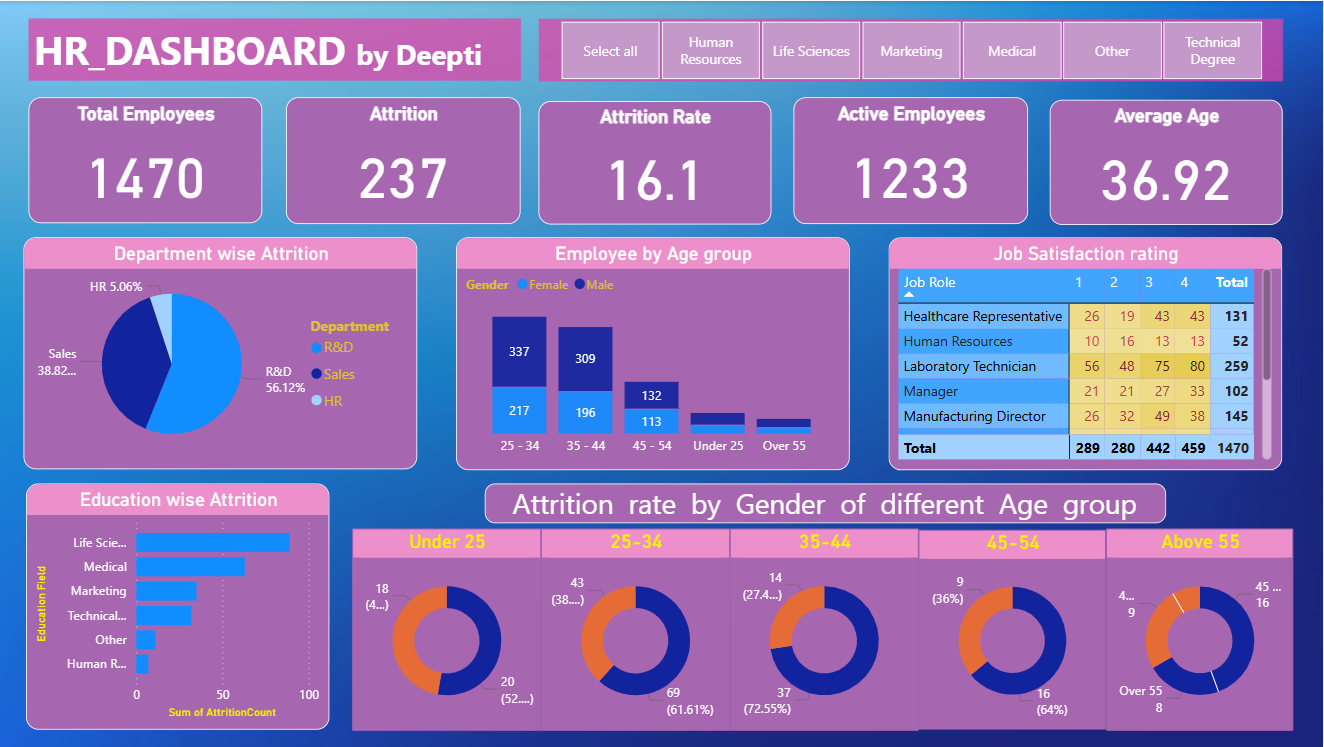

The page's visual inventory and layout, read from the dashboard file:
{"tool":"powerbi","page":{"name":"Page 1","canvas":[1280,720],"ordinal":0},"visuals":[{"type":"card","title":"Total Employees","fields":{"Values":["Sum(HR data.Employee Count)"]},"box":[31.4,92.9,225.6,121.9],"z":0},{"type":"card","title":"Attrition","fields":{"Values":["Sum(HR data.AttritionCount)"]},"box":[280.2,92.4,226.1,122.3],"z":1000},{"type":"card","title":"Attrition Rate","fields":{"Values":["HR data.AttritionRate"]},"box":[523.4,96.7,224.7,119.5],"z":2000},{"type":"card","title":"Active Employees","fields":{"Values":["Sum(HR data.ActiveEmployees)"]},"box":[769.4,92.4,226.1,122.3],"z":3000},{"type":"card","title":"Average Age","fields":{"Values":["Avg(HR data.Age)"]},"box":[1016.9,95.3,224.7,120.9],"z":4000},{"type":"pieChart","title":"Department wise Attrition","fields":{"Y":["Sum(HR data.AttritionCount)"],"Category":["HR data.Department"]},"box":[26.5,228,380,224.4],"z":5000},{"type":"columnChart","title":"Employee by Age group","fields":{"Category":["HR data.CF_age band"],"Y":["Sum(HR data.Employee Count)"],"Series":["HR data.Gender"]},"box":[443.7,227.6,379.7,224.7],"z":6000},{"type":"pivotTable","title":"Job Satisfaction rating","fields":{"Rows":["HR data.Job Role"],"Values":["CountNonNull(HR data.Hourly Rate)"],"Columns":["HR data.Job Satisfaction"]},"box":[861.9,227.6,379.7,224.7],"z":7000},{"type":"barChart","title":"Education wise Attrition","fields":{"Y":["Sum(HR data.AttritionCount)"],"Category":["HR data.Education Field"]},"box":[29,465.7,293.2,237.7],"z":8000},{"type":"donutChart","title":"Under 25","fields":{"Y":["Sum(HR data.AttritionCount)"],"Category":["HR data.Gender"],"Series":["HR data.CF_age band"]},"box":[343.8,509.1,182.2,195.4],"z":9000},{"type":"donutChart","title":"25-34","fields":{"Y":["Sum(HR data.AttritionCount)"],"Category":["HR data.Gender"],"Series":["HR data.CF_age band"]},"box":[526,509.1,182.2,195.4],"z":10000},{"type":"donutChart","title":"35-44","fields":{"Y":["Sum(HR data.AttritionCount)"],"Category":["HR data.Gender"],"Series":["HR data.CF_age band"]},"box":[708.2,509.1,182.2,195.4],"z":11000},{"type":"donutChart","title":"45-54","fields":{"Y":["Sum(HR data.AttritionCount)"],"Category":["HR data.Gender"],"Series":["HR data.CF_age band"]},"box":[890.4,510.3,181,193],"z":12000},{"type":"donutChart","title":"Above 55","fields":{"Y":["Sum(HR data.AttritionCount)"],"Category":["HR data.Gender"],"Series":["HR data.CF_age band"]},"box":[1071.3,509.1,181,195.4],"z":13000},{"type":"textbox","box":[471.7,465.7,657.5,38.6],"z":14000},{"type":"textbox","box":[31.3,17.1,475,59.7],"z":15000},{"type":"slicer","fields":{"Values":["HR data.Education Field"]},"box":[523.4,17.1,718.2,61.2],"z":16000}]}

Visuals, with their boxes in screenshot pixels (x1, y1, x2, y2), scaled from the page's 1280x720 canvas onto the 1324x747 screenshot:
"Total Employees" card: rect(32, 96, 266, 223)
"Attrition" card: rect(290, 96, 524, 223)
"Attrition Rate" card: rect(541, 100, 774, 224)
"Active Employees" card: rect(796, 96, 1030, 223)
"Average Age" card: rect(1052, 99, 1284, 224)
"Department wise Attrition" pieChart: rect(27, 237, 420, 469)
"Employee by Age group" columnChart: rect(459, 236, 852, 469)
"Job Satisfaction rating" pivotTable: rect(892, 236, 1284, 469)
"Education wise Attrition" barChart: rect(30, 483, 333, 730)
"Under 25" donutChart: rect(356, 528, 544, 731)
"25-34" donutChart: rect(544, 528, 733, 731)
"35-44" donutChart: rect(733, 528, 921, 731)
"45-54" donutChart: rect(921, 529, 1108, 730)
"Above 55" donutChart: rect(1108, 528, 1295, 731)
textbox: rect(488, 483, 1168, 523)
textbox: rect(32, 18, 524, 80)
slicer - HR data.Education Field: rect(541, 18, 1284, 81)
